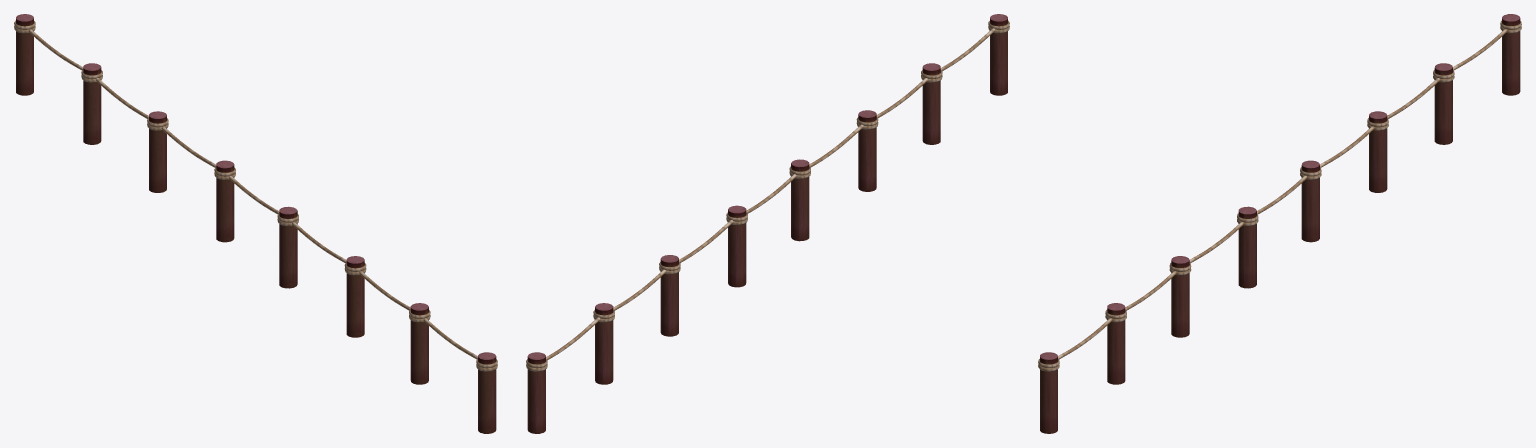
Rendered from Hek 1.fbx.
3 renders of one model, left to right at view 1: azimuth 30°, elevation 25°; view 2: azimuth 150°, elevation 25°; view 3: azimuth 330°, elevation 25°, orthographic.
Parts seen in each view (by area): view 1: pCylinder6, pCylinder8, pCylinder3, pCylinder12, pCylinder16, pCylinder10, pCylinder14, pCylinder18; view 2: pCylinder18, pCylinder8, pCylinder10, pCylinder16, pCylinder3, pCylinder12, pCylinder14, pCylinder6; view 3: pCylinder14, pCylinder3, pCylinder8, pCylinder16, pCylinder10, pCylinder18, pCylinder12, pCylinder6.
Boxes of the visible parts, x1,y1,x2,y2 form: pCylinder6: (478, 352, 496, 433); pCylinder8: (346, 256, 364, 337); pCylinder3: (410, 303, 428, 384); pCylinder12: (216, 160, 234, 242); pCylinder16: (83, 63, 101, 144); pCylinder10: (279, 206, 297, 288); pCylinder14: (149, 111, 166, 192); pCylinder18: (16, 14, 33, 95); pCylinder18: (527, 352, 545, 433); pCylinder8: (858, 110, 876, 191); pCylinder10: (791, 159, 809, 241); pCylinder16: (595, 303, 613, 384); pCylinder3: (922, 63, 940, 144); pCylinder12: (728, 205, 746, 287); pCylinder14: (660, 255, 678, 336); pCylinder6: (990, 14, 1007, 95); pCylinder14: (1369, 111, 1387, 192); pCylinder3: (1107, 303, 1125, 384); pCylinder8: (1171, 256, 1189, 337); pCylinder16: (1434, 63, 1452, 144); pCylinder10: (1238, 206, 1256, 288); pCylinder18: (1502, 14, 1520, 95); pCylinder12: (1301, 160, 1319, 242); pCylinder6: (1040, 352, 1057, 433).
Size of the model in its own units: 4.97 by 18.79 by 218.
2 materials, 2 textured.
